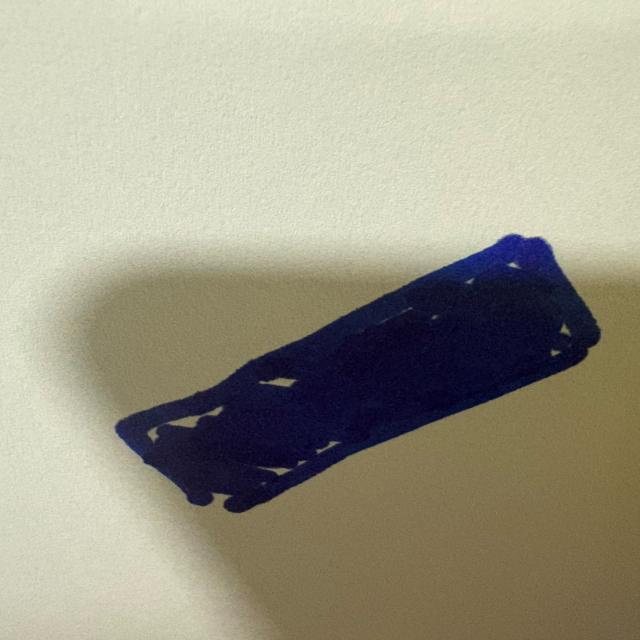Rectangle: (108, 228, 618, 518)
